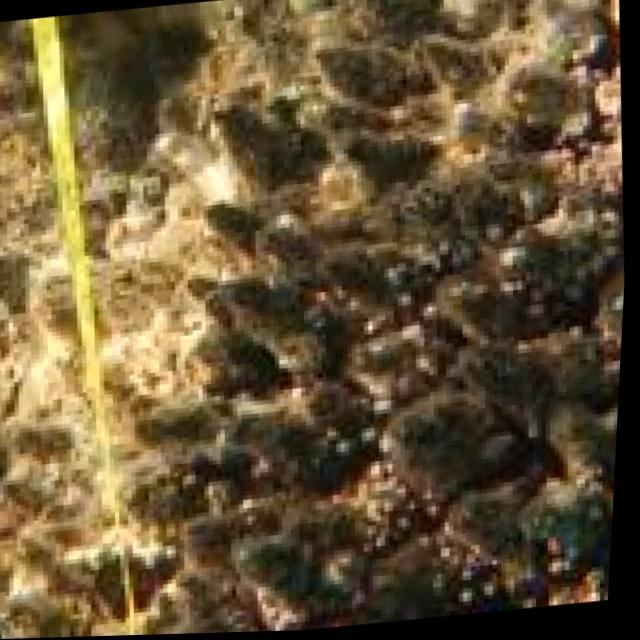Dead Coral: (185, 102, 635, 635)
